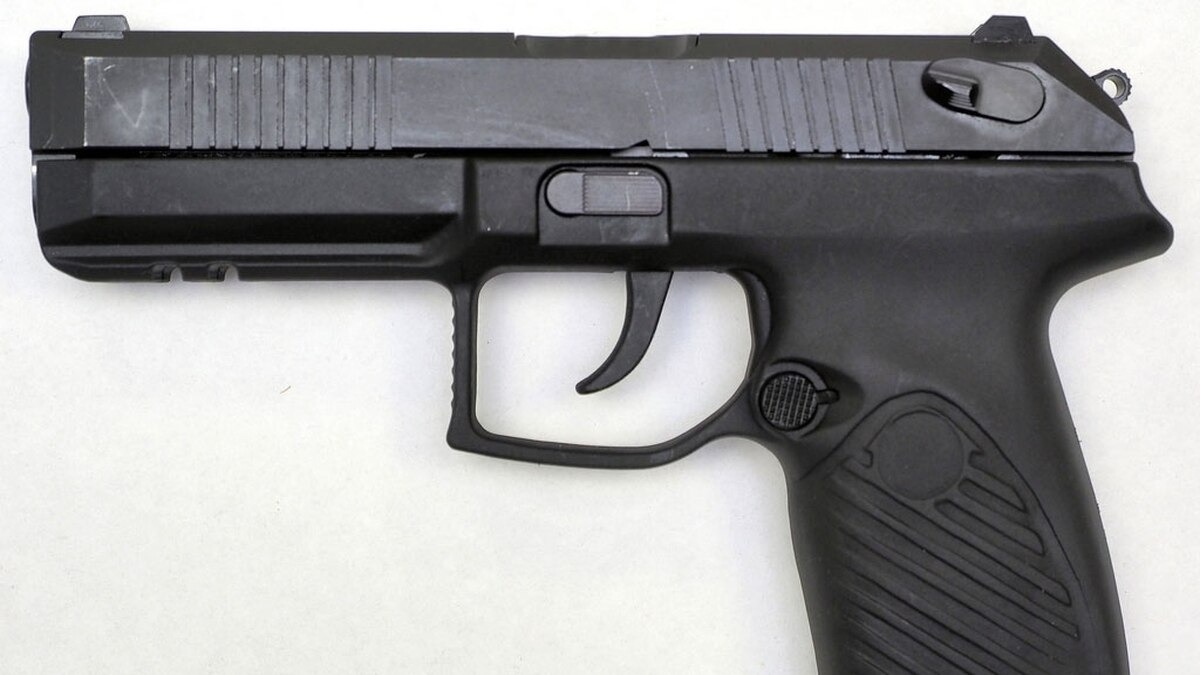gun: (17, 10, 1177, 674)
